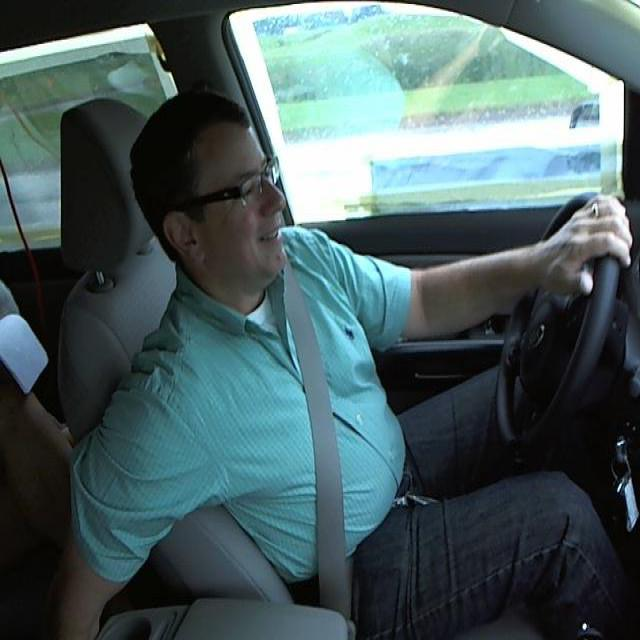seatbelt: (275, 284, 372, 603)
